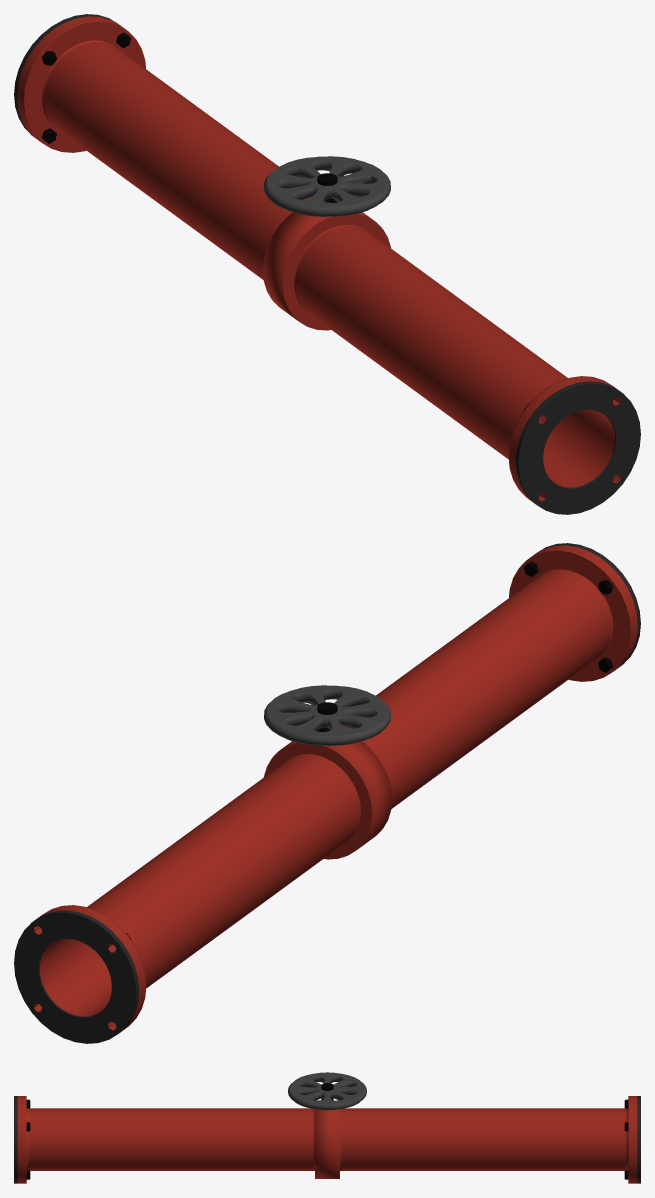
File: StaightwithWheel.fbx
3 renders of one model, top to bottom at view 1: azimuth 30°, elevation 25°; view 2: azimuth 150°, elevation 25°; view 3: azimuth 270°, elevation 25°, orthographic. The views are drawn at different scales.
Visible parts, largest first — view 1: PipeswithValves:Valve Pipe.000; view 2: PipeswithValves:Valve Pipe.000; view 3: PipeswithValves:Valve Pipe.000.
Boxes of the visible parts, x1,y1,x2,y2 form: PipeswithValves:Valve Pipe.000: [14, 14, 640, 514]; PipeswithValves:Valve Pipe.000: [14, 543, 640, 1043]; PipeswithValves:Valve Pipe.000: [14, 1072, 640, 1183].
Size of the model in its own units: 14 by 16.51 by 100.
